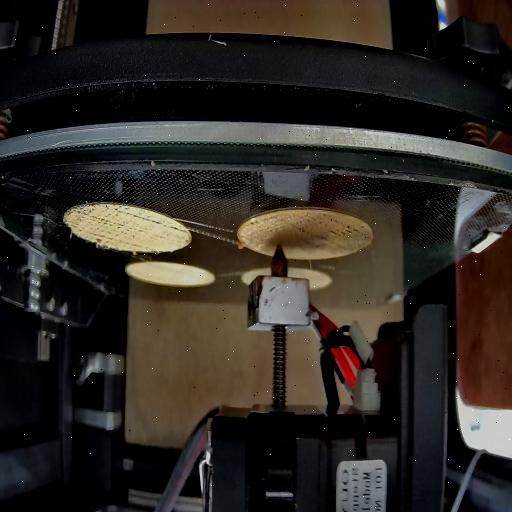under_extrusion: (68, 204, 166, 246), (292, 212, 372, 239), (244, 210, 280, 232), (170, 220, 188, 238)
